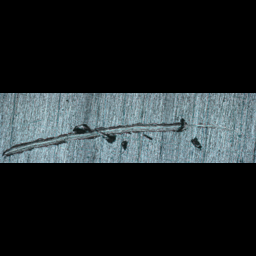d: (1, 116, 249, 159)
